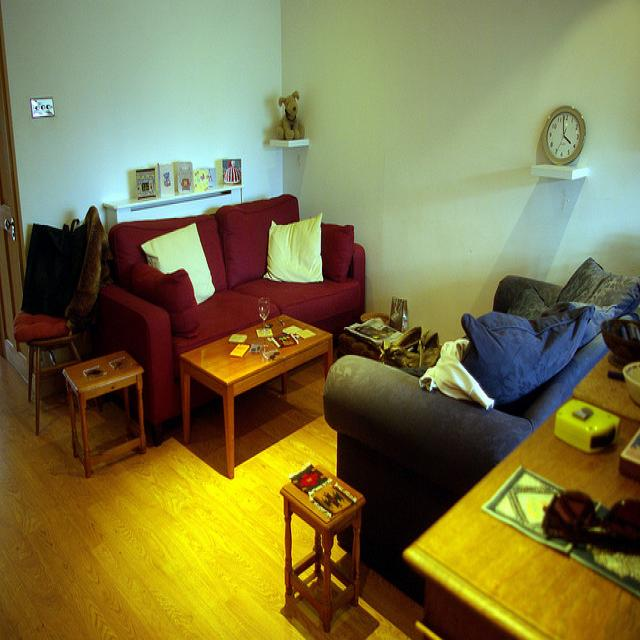chair: (15, 205, 101, 346), (27, 333, 83, 437)
dining table: (404, 303, 640, 630)
